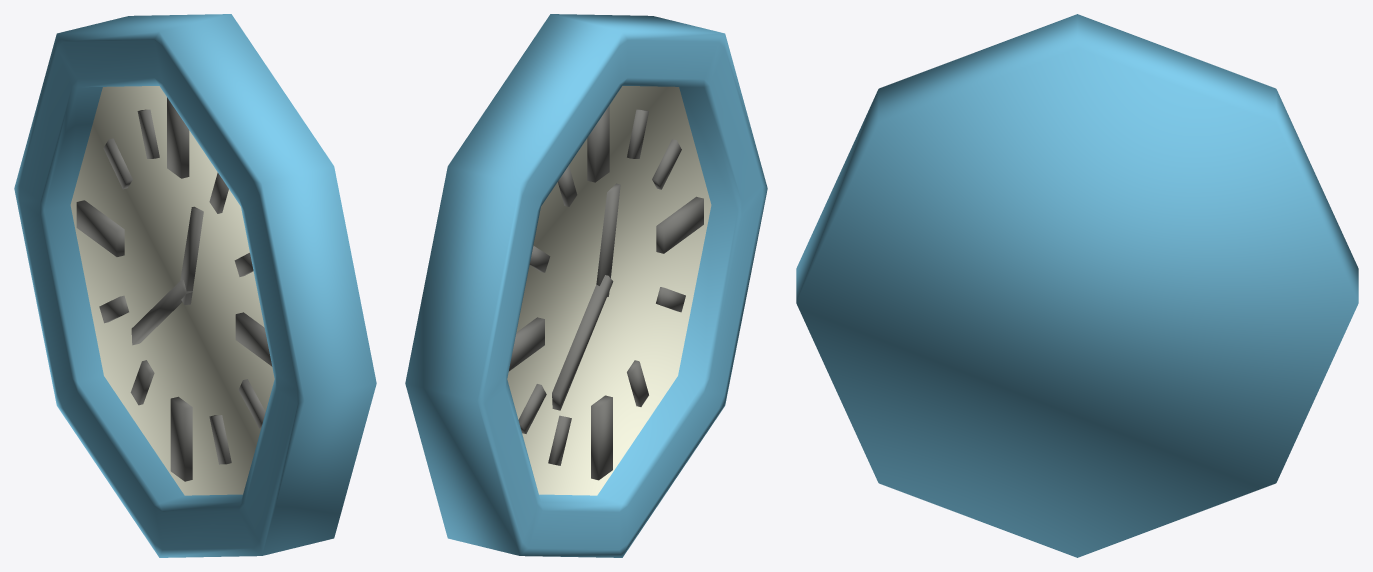
The model's file is Clock.fbx.
3 renders of one model, left to right at view 1: azimuth 30°, elevation 25°; view 2: azimuth 150°, elevation 25°; view 3: azimuth 270°, elevation 25°, orthographic. The views are drawn at different scales.
Visible parts, largest first — view 1: Cylinder.1283; view 2: Cylinder.1283; view 3: Cylinder.1283.
Boxes of the visible parts, x1,y1,x2,y2 form: Cylinder.1283: (14,14,376,557); Cylinder.1283: (405,14,767,557); Cylinder.1283: (796,14,1358,557).
Size of the model in its own units: 9.94 by 68.38 by 68.38.
Materials: 1 (1 with a texture image).
